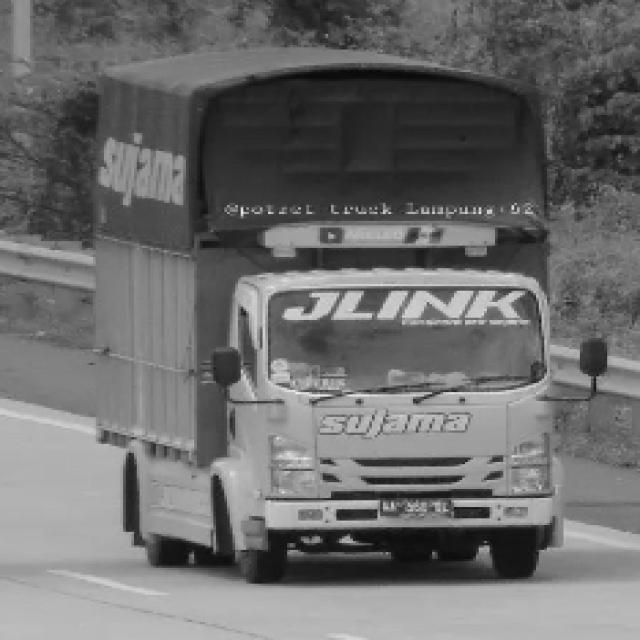Truck: (77, 38, 625, 602)
